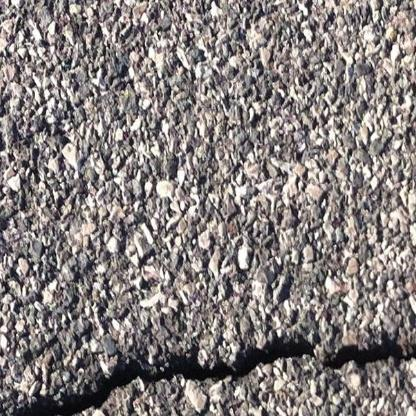Cracks: (0, 336, 416, 416)
